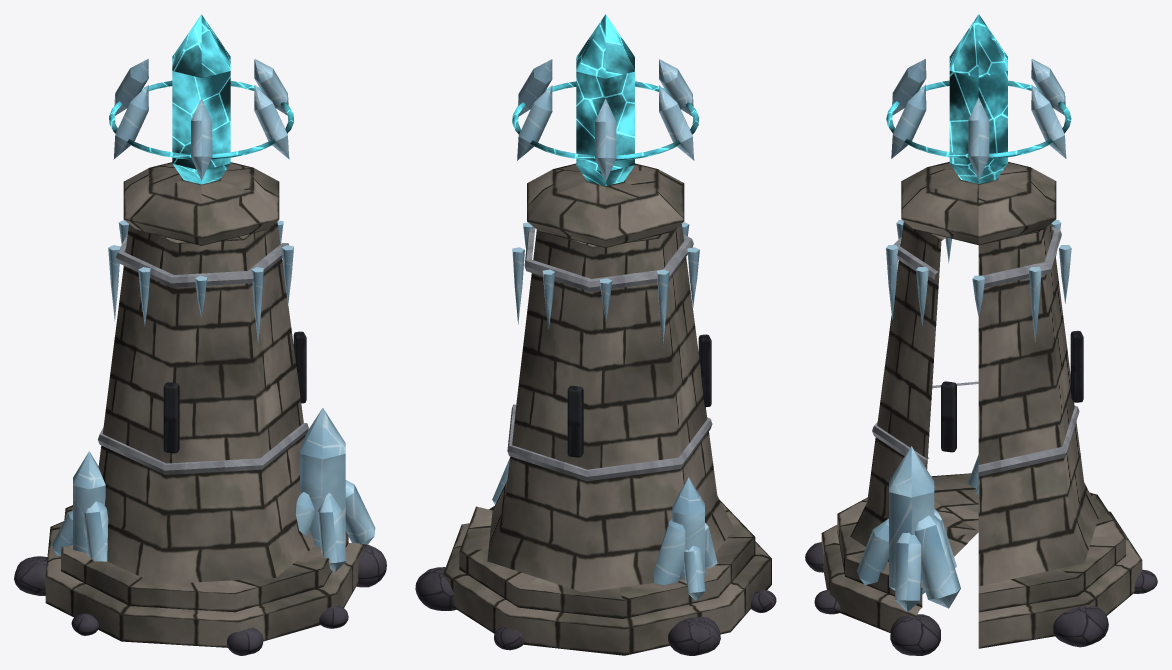
File: frost.glb
3 renders of one model, left to right at view 1: azimuth 30°, elevation 25°; view 2: azimuth 150°, elevation 25°; view 3: azimuth 270°, elevation 25°, orthographic.
Parts seen in each view (by area): view 1: Base, Turret; view 2: Base, Turret; view 3: Base, Turret.
Part boxes in pixels (x1,y1,x2,y2): Base: [14, 162, 386, 655]; Turret: [109, 14, 294, 184]; Base: [415, 163, 776, 655]; Turret: [512, 14, 699, 185]; Base: [805, 162, 1157, 655]; Turret: [886, 14, 1071, 183].
Bounding box in the file's own units: 0.9211 × 1.7 × 0.9445.
6 materials, 6 textured.
